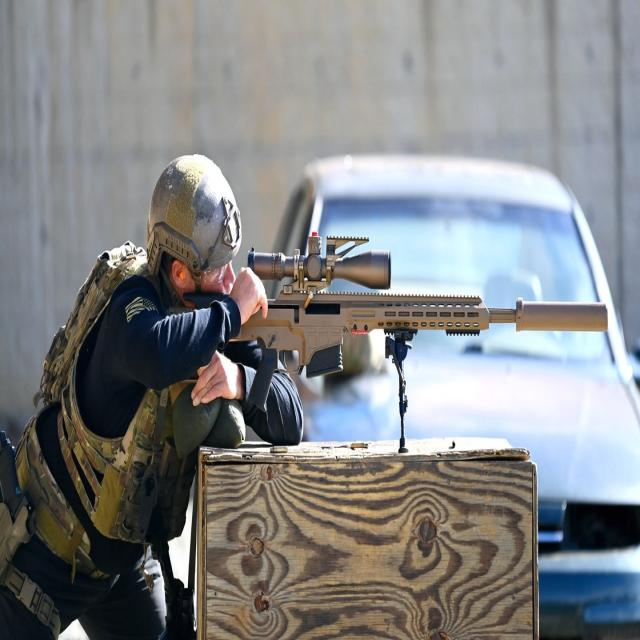Rifle: (239, 232, 609, 412)
